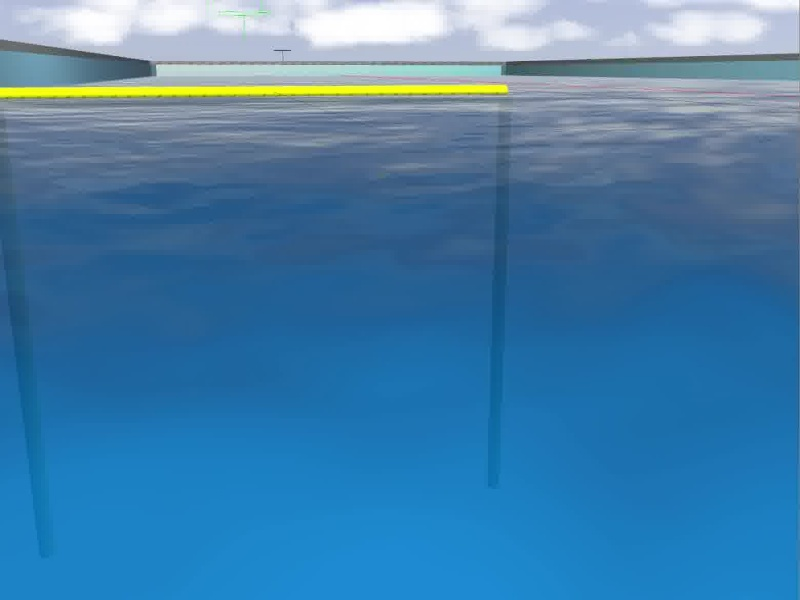gate: (1, 85, 509, 556)
